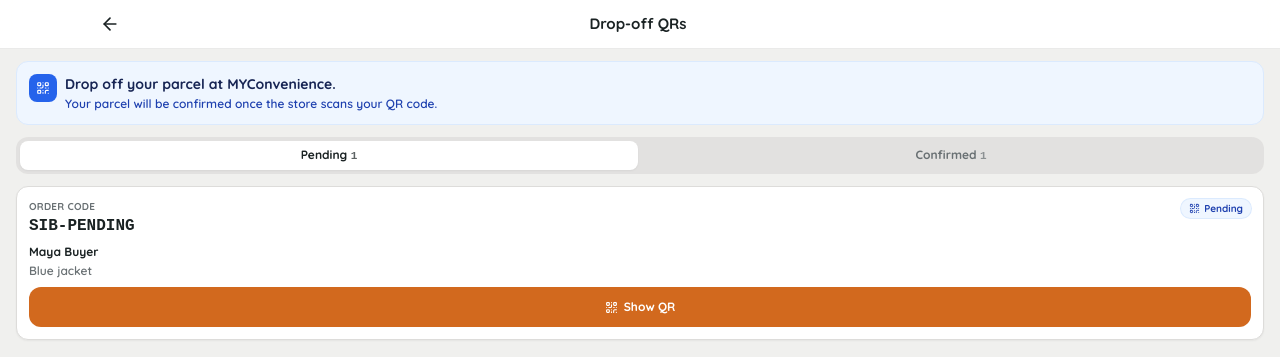
Test: SellerDropoffPage › shows confirmed parcels only in the Confirmed tab
Expected: the number of elements with test id "pending-dropoff-card" is 1, top-left (16, 186), bottom-right (1264, 340)
Expected: the text "SIB-PENDING" is shown, top-left (29, 214), bottom-right (135, 238)
Step 1. Click the tab "Confirmed 1" → (951,156), box top-left (642, 141), bottom-right (1260, 170)
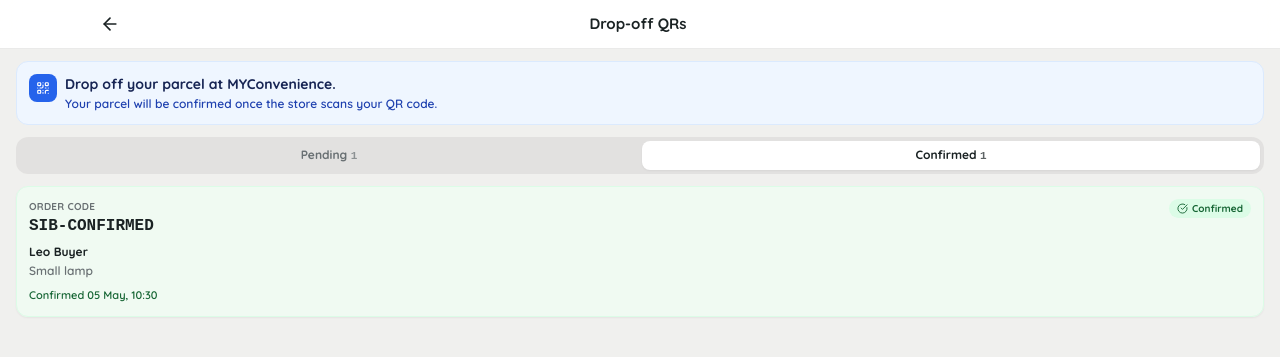
Expected: the element with test id "confirmed-dropoff-card" is shown, top-left (16, 186), bottom-right (1264, 316)
Expected: the text "SIB-CONFIRMED" is shown, top-left (29, 214), bottom-right (154, 238)
Expected: the text "SIB-PENDING" is gone
